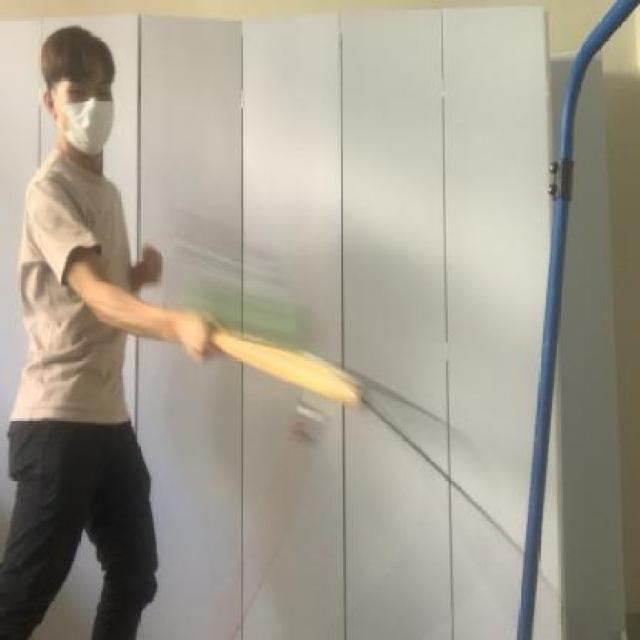baseball: (172, 272, 316, 358)
